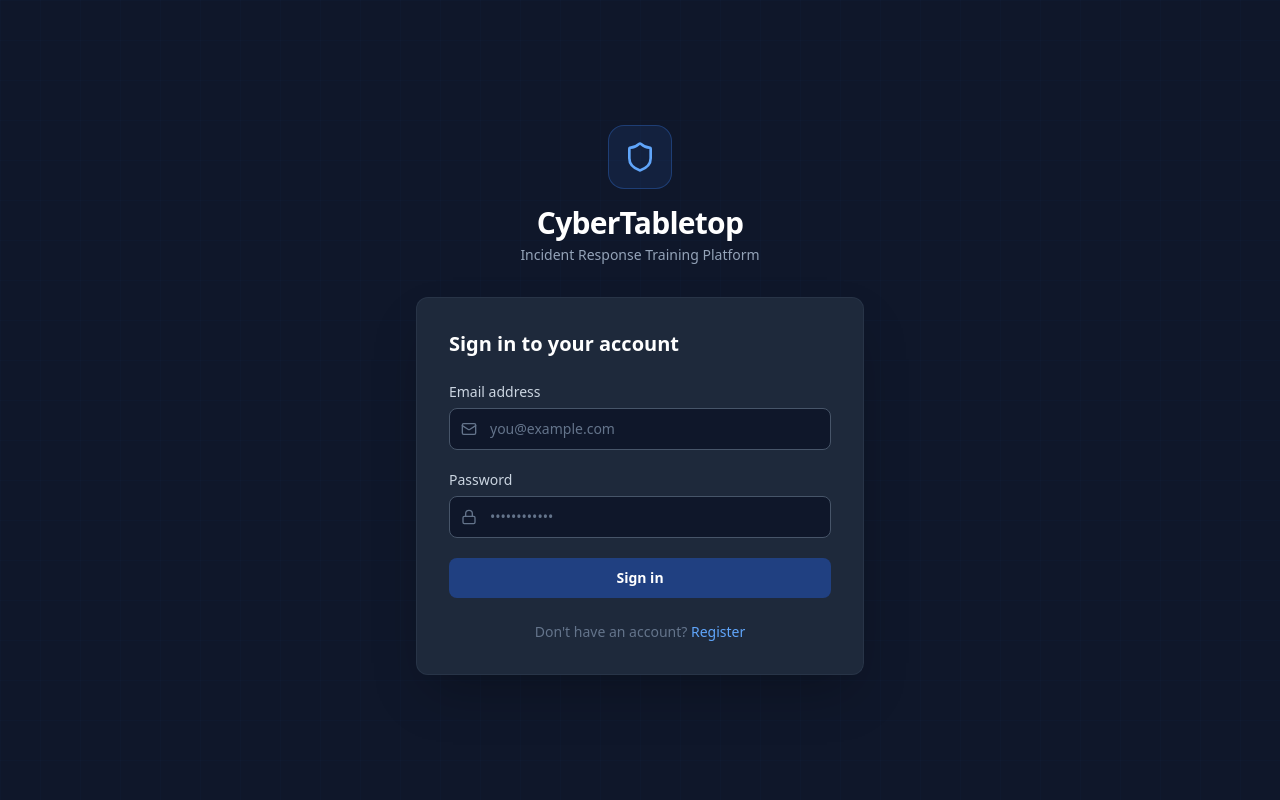
LoginPage › renders the sign-in form and handles invalid credentials without crashing
This screenshot has width=1280, height=800.
Expected: the heading "Sign in to your account" is shown, [449, 330, 679, 357]
Type "player@example.com" into the field labelled "Email address" at (640, 429), box [449, 408, 831, 450]
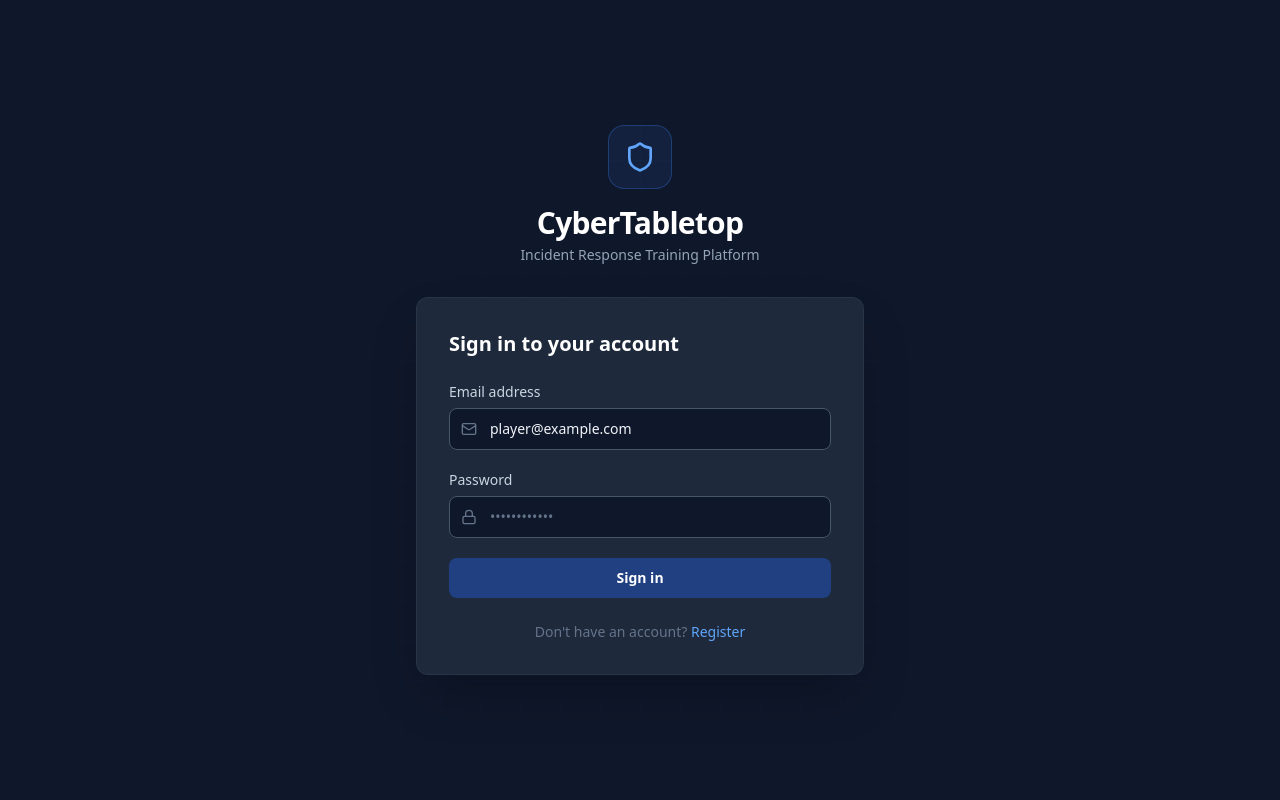
Type "wrong-password" into the password field labelled "Password" at (640, 517), box [449, 496, 831, 538]
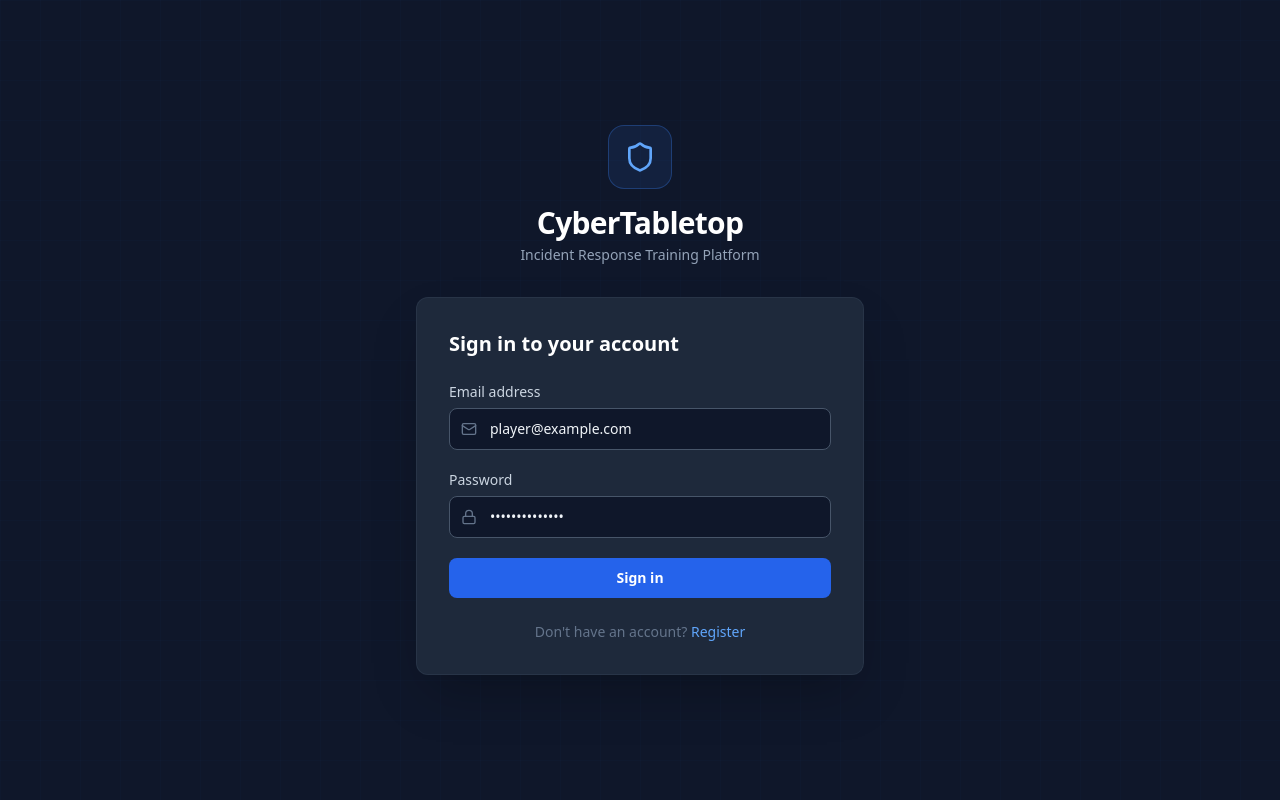
Click the button "Sign in" at (640, 578), box [449, 558, 831, 598]
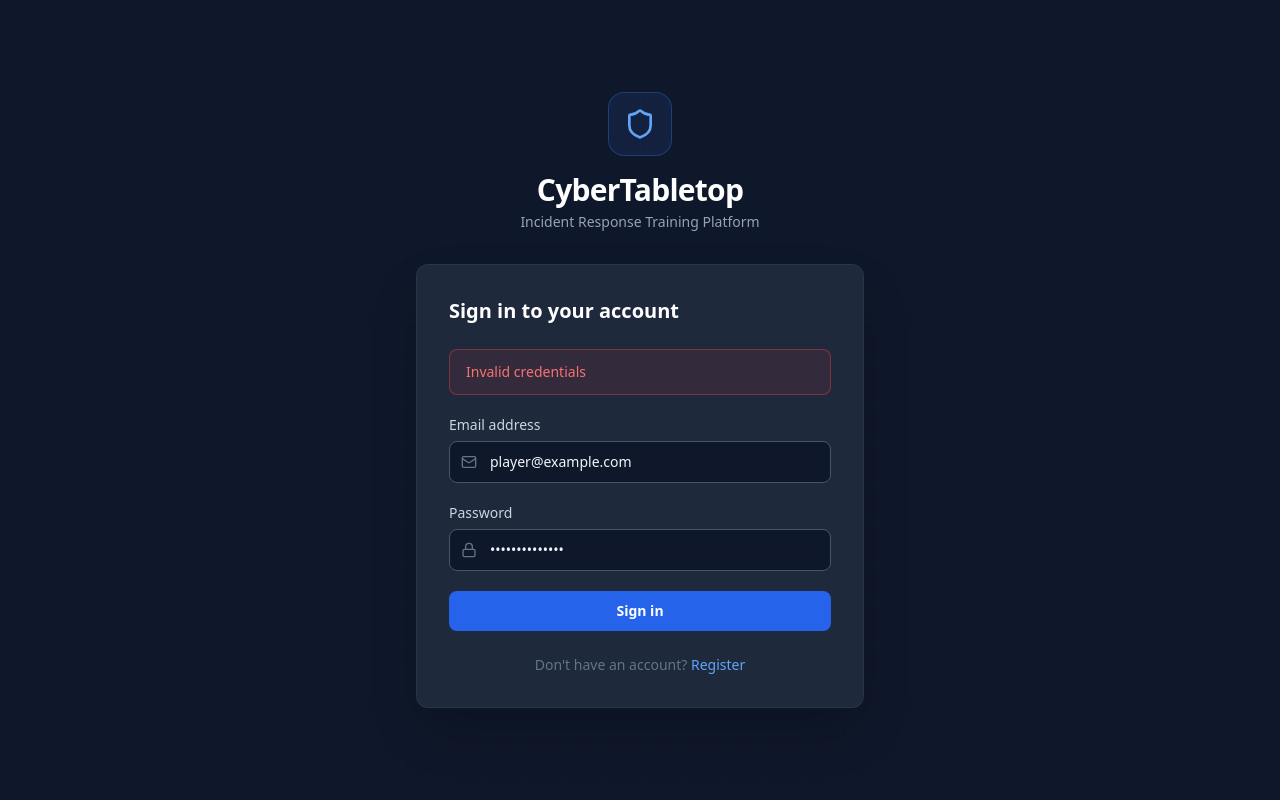
Expected: the text "Invalid credentials" is shown, [466, 362, 586, 382]
